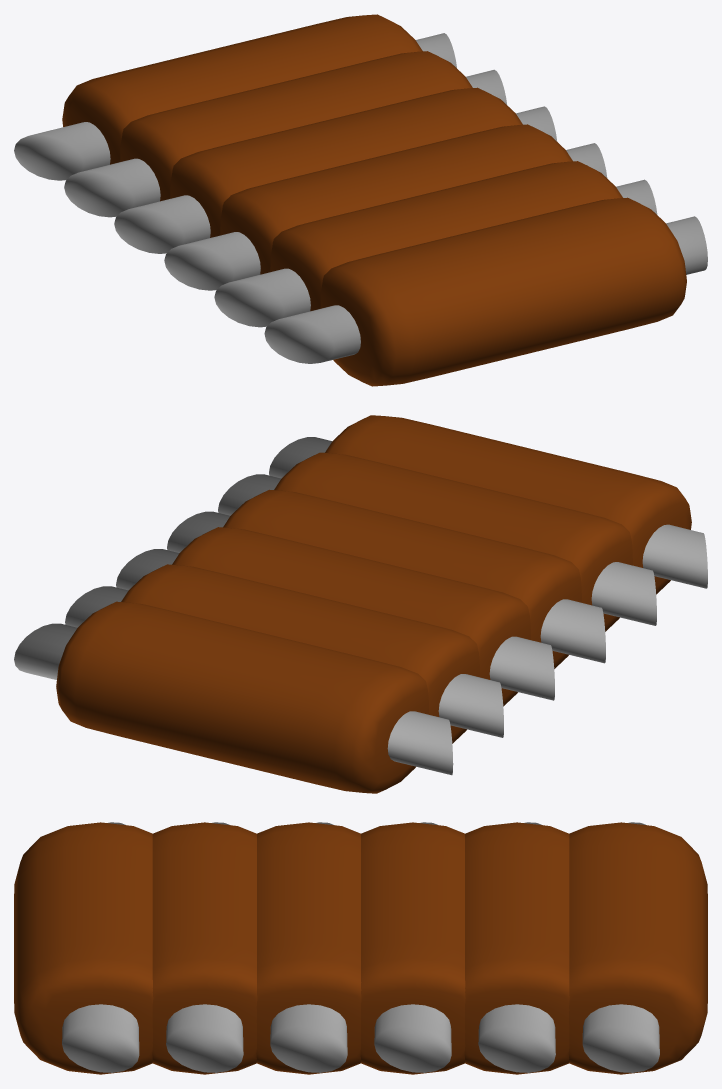
Rendered from RIbs01.fbx.
3 renders of one model, top to bottom at view 1: azimuth 30°, elevation 25°; view 2: azimuth 150°, elevation 25°; view 3: azimuth 270°, elevation 25°, orthographic. The views are drawn at different scales.
Parts seen in each view (by area): view 1: Ribs01; view 2: Ribs01; view 3: Ribs01.
Boxes of the visible parts, left/top/right/bottom form: Ribs01: left=14, top=14, right=707, bottom=386; Ribs01: left=14, top=415, right=707, bottom=793; Ribs01: left=14, top=822, right=707, bottom=1074.
Size of the model in its own units: 813 by 193 by 1095.
